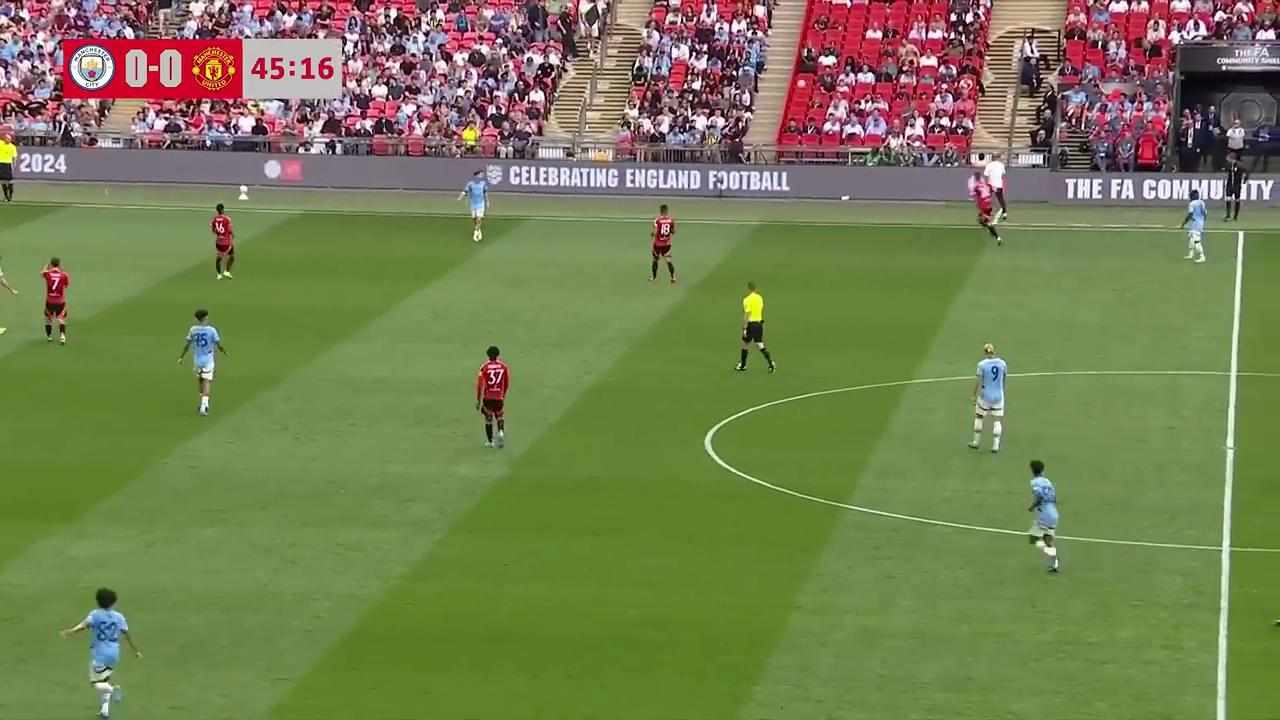player: (59, 589, 143, 710), (178, 308, 226, 415), (968, 342, 1007, 454), (1026, 460, 1060, 572), (475, 345, 510, 449), (41, 257, 69, 344), (971, 173, 1003, 245), (649, 204, 677, 285), (211, 204, 235, 280), (1181, 194, 1207, 261), (462, 174, 487, 241), (0, 236, 18, 298)
referee: (733, 281, 776, 373), (0, 138, 17, 204)
